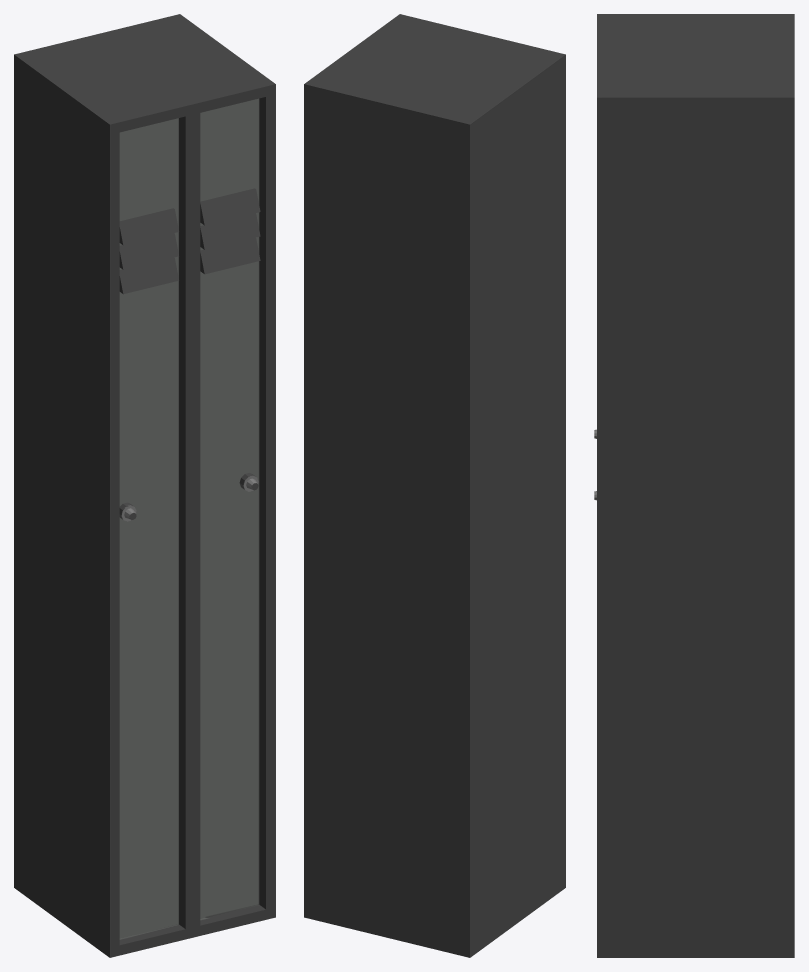
The model's file is tall locker.fbx.
The picture shows the model from 3 angles, left to right: view 1: azimuth 30°, elevation 25°; view 2: azimuth 150°, elevation 25°; view 3: azimuth 270°, elevation 25°; orthographic projection. The views are drawn at different scales.
Visible parts, largest first — view 1: pCube102, pCube106, pCylinder3; view 2: pCube102; view 3: pCube102.
Part boxes in pixels (x1=…): pCube102: x1=14, y1=14, x2=275, y2=957; pCube106: x1=119, y1=188, x2=260, y2=294; pCylinder3: x1=119, y1=473, x2=258, y2=521; pCube102: x1=304, y1=14, x2=565, y2=957; pCube102: x1=597, y1=14, x2=794, y2=957.
Bounding box in the file's own units: 0.3382 × 1.62 × 0.3427.
